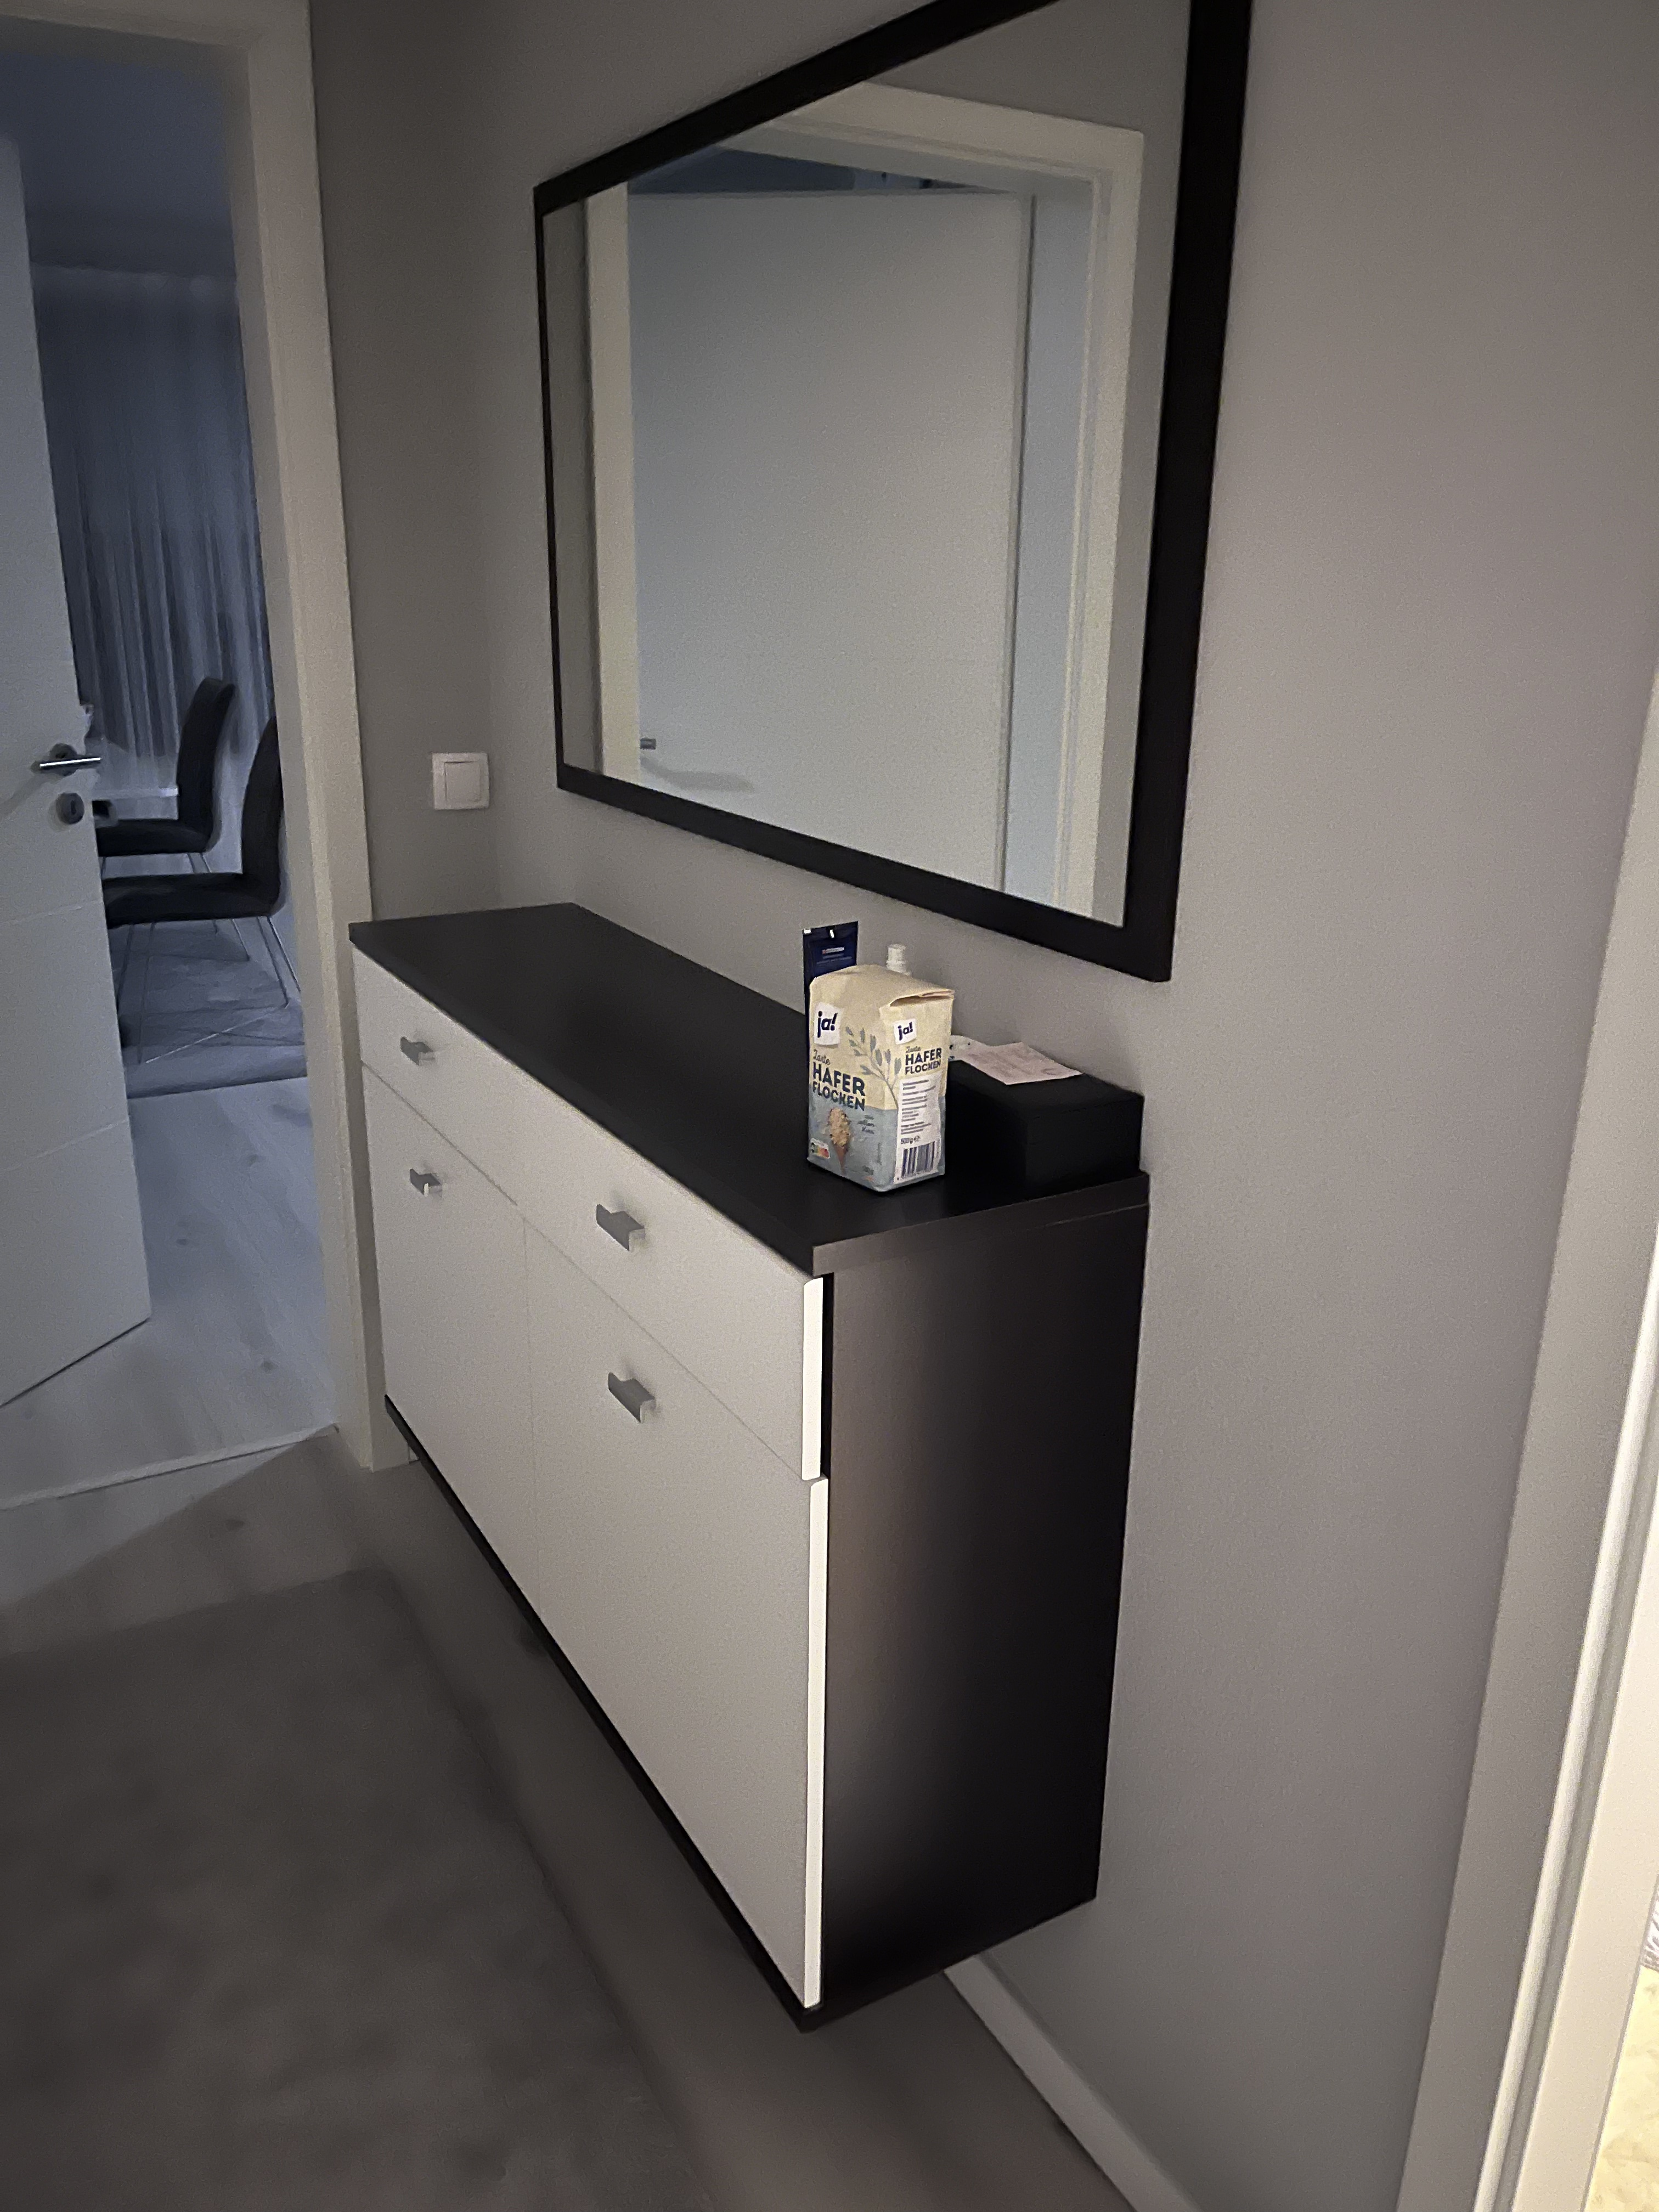haferflocken_ja: (803, 963, 953, 1191)
